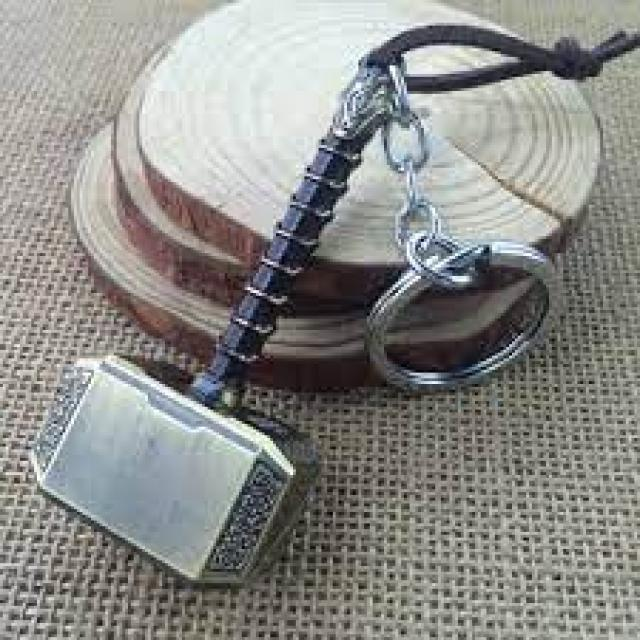hammer: (18, 47, 397, 593)
